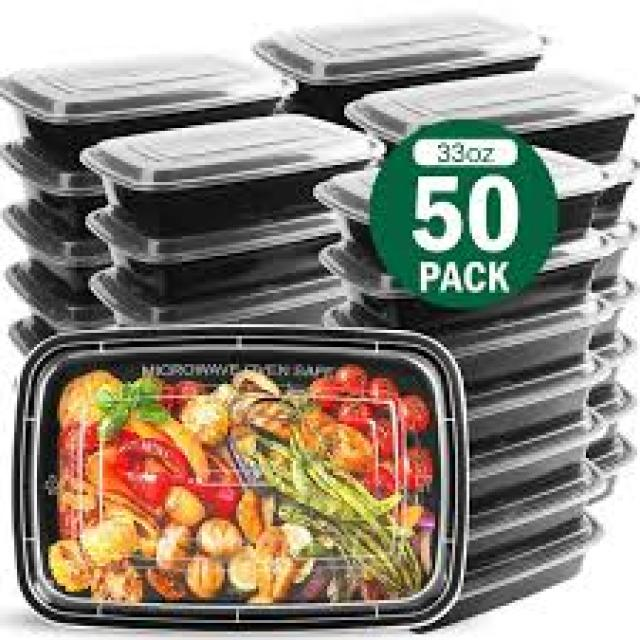disposable: (17, 315, 492, 640)
